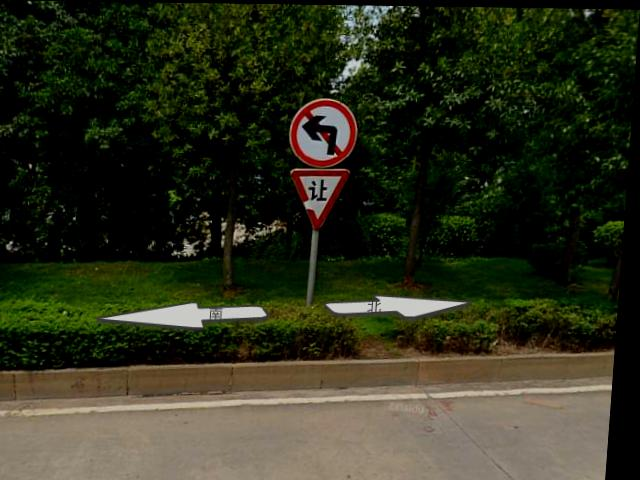not_turn_left: (293, 96, 362, 168)
